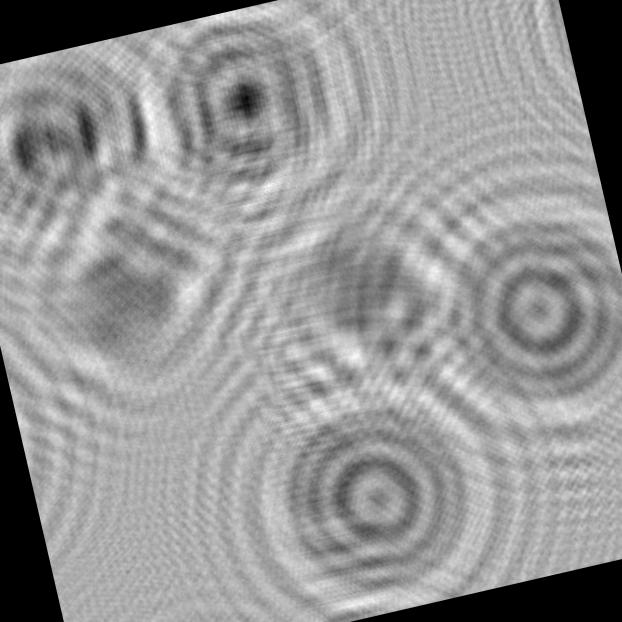P: (107, 0, 417, 264)
Q: (195, 324, 539, 622), (371, 131, 622, 482)
S: (0, 31, 186, 272)
T: (189, 142, 512, 444), (0, 137, 287, 453)
